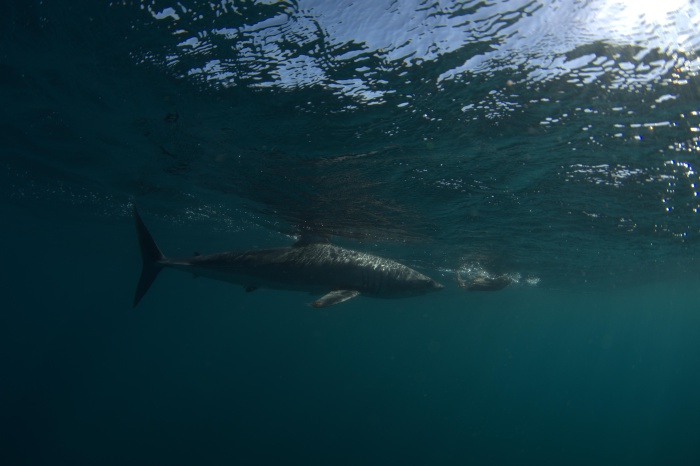Mako: (119, 182, 453, 331)
